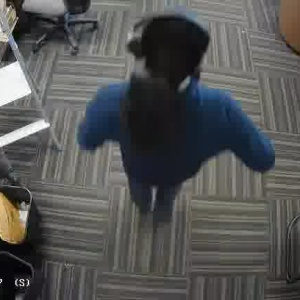person: (88, 6, 239, 196)
